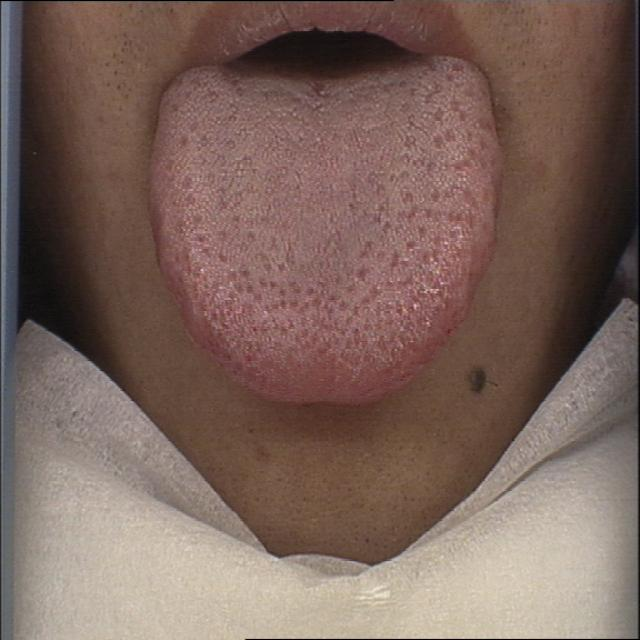tongue: (138, 53, 513, 417)
